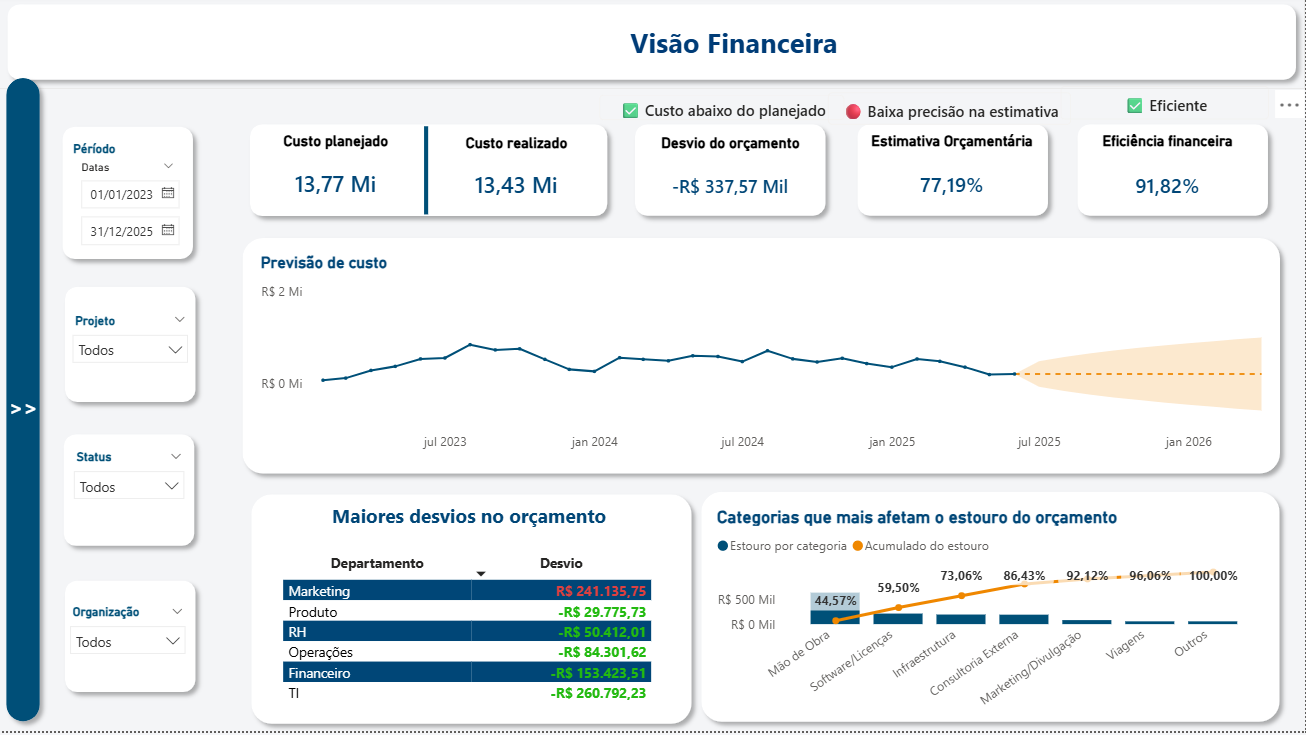

What the dashboard file says about the page in this screenshot:
{"tool":"powerbi","page":{"name":"Financeiro","canvas":[1280,720],"ordinal":1},"visuals":[{"type":"shape","box":[1.5,0,1278.5,91.9],"z":0,"group":"g13"},{"type":"shape","box":[0,72.5,50.9,647.5],"z":0,"group":"g15"},{"type":"shape","box":[237.9,117.8,367.5,107.8],"z":0,"group":"g17"},{"type":"group","id":"g1","title":"Grupo 5","box":[615.4,118,204.3,107.5],"z":0,"group":"g8"},{"type":"shape","box":[615.4,118,204.3,107.5],"z":0,"group":"g1"},{"type":"shape","box":[833,118,204.3,107.5],"z":0,"group":"g5"},{"type":"group","id":"g2","title":"Grupo 5","box":[1047,118,204.3,107.5],"z":0,"group":"g10"},{"type":"shape","box":[1047,118,204.3,107.5],"z":0,"group":"g2"},{"type":"group","id":"g3","title":"Grupo 3","box":[54.5,120,149.1,571.4],"z":0},{"type":"shape","box":[54.5,120,145.6,147.4],"z":0,"group":"g6"},{"type":"shape","box":[231.6,229.2,1033,248.4],"z":0,"group":"g11"},{"type":"shape","box":[57.5,276.6,145.6,130.7],"z":0,"group":"g7"},{"type":"group","id":"g4","title":"Grupo 7","box":[56,421.2,145.6,127.2],"z":0,"group":"g3"},{"type":"shape","box":[56,421.2,145.6,127.2],"z":0,"group":"g4"},{"type":"shape","box":[680,477.5,583.7,243.1],"z":0,"group":"g12"},{"type":"shape","box":[240,478.8,448.8,242.5],"z":0,"group":"g14"},{"type":"shape","box":[57.5,564.2,145.6,127.2],"z":0,"group":"g9"},{"type":"textbox","box":[588.6,23.6,265.7,47.2],"z":1000,"group":"g13"},{"type":"cardVisual","fields":{"Data":["Medidas.Aviso_CPI"]},"box":[1023,72.4,239,67.5],"z":1000,"group":"g10"},{"type":"cardVisual","fields":{"Data":["Medidas.Aviso_Desvio_Orcamento"]},"box":[572,81.3,274,59.7],"z":1000,"group":"g8"},{"type":"group","id":"g5","title":"Grupo 5","box":[833,118,204.3,107.5],"z":1000},{"type":"group","id":"g6","title":"Grupo 9","box":[54.5,120,146.1,149.1],"z":1000,"group":"g3"},{"type":"cardVisual","title":"Eficiência financeira","fields":{"Data":["Medidas.% CPI_Financeiro"]},"box":[1061,134.9,167.5,83.2],"z":1000,"group":"g2"},{"type":"cardVisual","title":"Estimativa Orçamentária","fields":{"Data":["Medidas.% Acerto_Custo"]},"box":[840.5,135.7,188.3,81.8],"z":1000,"group":"g5"},{"type":"cardVisual","title":"Desvio do orçamento","fields":{"Data":["Medidas.Desvio_Orcamento_RS"]},"box":[628.7,136,178,82.6],"z":1000,"group":"g1"},{"type":"cardVisual","title":"Custo realizado","fields":{"Data":["Sum(fato_financeiro_mensal.custo_realizado_rs)"]},"box":[421.2,136.3,172.7,79.2],"z":1000,"group":"g17"},{"type":"slicer","title":"Péríodo","fields":{"Values":["dim_calendario.data"]},"box":[69.4,143.7,115.8,113.2],"z":1000,"group":"g6"},{"type":"lineChart","title":"Previsão de custo","fields":{"Y":["Sum(fato_financeiro_mensal.custo_realizado_rs)"],"Category":["dim_calendario.data"]},"box":[253.8,253.1,1012.2,201.5],"z":1000,"group":"g11"},{"type":"slicer","fields":{"Values":["dim_projeto.nome_projeto"]},"box":[63.4,307.7,133.3,77.2],"z":1000,"group":"g7"},{"type":"actionButton","title":">>>","box":[0,379.8,51.6,46.7],"z":1000,"group":"g15"},{"type":"slicer","fields":{"Values":["dim_projeto.status"]},"box":[64.2,440.9,128.3,83.3],"z":1000,"group":"g4"},{"type":"lineStackedColumnComboChart","title":"Categorias que mais afetam o estouro do orçamento","fields":{"Category":["fato_financeiro_mensal.categoria_custo"],"Y2":["Medidas.%_Acumulado_Pareto"],"Y":["Medidas.Total_Estouro_Categoria_Prt"]},"box":[700.1,500.3,544.9,213.5],"z":1000,"group":"g12"},{"type":"pivotTable","fields":{"Rows":["dim_projeto.nome_projeto","dim_projeto.departamento"],"Values":["Medidas.Desvio_Orcamento_RS"]},"box":[275.1,538.9,372.7,161],"z":1000,"group":"g14"},{"type":"slicer","fields":{"Values":["dim_projeto.departamento","dim_gerente.nome_gerente"]},"box":[61.6,592.1,133.3,75],"z":1000,"group":"g9"},{"type":"cardVisual","fields":{"Data":["Medidas.Aviso_Taxa_Acerto_Custo"]},"box":[796,77.9,272.7,66.2],"z":2000},{"type":"shape","box":[346.5,128.8,145,86.2],"z":2000,"group":"g17"},{"type":"group","id":"g7","title":"Grupo 8","box":[57.5,276.6,146.1,129.5],"z":2000,"group":"g3"},{"type":"group","id":"g8","title":"Grupo 6","box":[572,81.3,274,144.2],"z":3000},{"type":"cardVisual","title":"Custo planejado","fields":{"Data":["Sum(fato_financeiro_mensal.custo_planejado_rs)"]},"box":[241.5,135,178.8,81.2],"z":3000,"group":"g17"},{"type":"group","id":"g9","title":"Grupo 7","box":[57.5,564.2,145.6,127.2],"z":3000,"group":"g3"},{"type":"group","id":"g10","title":"Grupo 10","box":[1023,72.4,239,153.1],"z":4000},{"type":"group","id":"g11","title":"Grupo 3","box":[231.6,229.2,1034.4,248.4],"z":5000},{"type":"group","id":"g12","title":"Grupo 11","box":[680,477.5,583.8,242.5],"z":6000},{"type":"group","id":"g13","title":"Grupo 12","box":[1.5,0,1278.5,91.9],"z":7000},{"type":"group","id":"g14","title":"Grupo 4","box":[240,478.8,448.8,242.5],"z":7000,"group":"g16"},{"type":"textbox","box":[307.5,491,310,35],"z":7500,"group":"g16"},{"type":"group","id":"g15","title":"Grupo 2","box":[0,72.5,51.6,647.3],"z":8000},{"type":"group","id":"g16","title":"Grupo 13","box":[240,478.8,448.8,242.5],"z":10000},{"type":"group","id":"g17","title":"Grupo 5","box":[237.9,117.8,367.5,107.8],"z":11000}]}

Visuals, with their boxes in screenshot pixels (x1, y1, x2, y2), scaled from the page's 1280x720 canvas onto the 1306x735 screenshot:
shape: pyautogui.locateOnScreen(2, 0, 1305, 94)
shape: pyautogui.locateOnScreen(0, 74, 52, 734)
shape: pyautogui.locateOnScreen(243, 120, 618, 230)
"Grupo 5" group: pyautogui.locateOnScreen(628, 120, 836, 230)
shape: pyautogui.locateOnScreen(628, 120, 836, 230)
shape: pyautogui.locateOnScreen(850, 120, 1058, 230)
"Grupo 5" group: pyautogui.locateOnScreen(1068, 120, 1277, 230)
shape: pyautogui.locateOnScreen(1068, 120, 1277, 230)
"Grupo 3" group: pyautogui.locateOnScreen(56, 122, 208, 706)
shape: pyautogui.locateOnScreen(56, 122, 204, 273)
shape: pyautogui.locateOnScreen(236, 234, 1290, 488)
shape: pyautogui.locateOnScreen(59, 282, 207, 416)
"Grupo 7" group: pyautogui.locateOnScreen(57, 430, 206, 560)
shape: pyautogui.locateOnScreen(57, 430, 206, 560)
shape: pyautogui.locateOnScreen(694, 487, 1289, 734)
shape: pyautogui.locateOnScreen(245, 489, 703, 734)
shape: pyautogui.locateOnScreen(59, 576, 207, 706)
textbox: pyautogui.locateOnScreen(601, 24, 872, 72)
cardVisual - Medidas.Aviso_CPI: pyautogui.locateOnScreen(1044, 74, 1288, 143)
cardVisual - Medidas.Aviso_Desvio_Orcamento: pyautogui.locateOnScreen(584, 83, 863, 144)
"Grupo 5" group: pyautogui.locateOnScreen(850, 120, 1058, 230)
"Grupo 9" group: pyautogui.locateOnScreen(56, 122, 205, 275)
"Eficiência financeira" cardVisual: pyautogui.locateOnScreen(1083, 138, 1253, 223)
"Estimativa Orçamentária" cardVisual: pyautogui.locateOnScreen(858, 139, 1050, 222)
"Desvio do orçamento" cardVisual: pyautogui.locateOnScreen(641, 139, 823, 223)
"Custo realizado" cardVisual: pyautogui.locateOnScreen(430, 139, 606, 220)
"Péríodo" slicer: pyautogui.locateOnScreen(71, 147, 189, 262)
"Previsão de custo" lineChart: pyautogui.locateOnScreen(259, 258, 1292, 464)
slicer - dim_projeto.nome_projeto: pyautogui.locateOnScreen(65, 314, 201, 393)
">>>" actionButton: pyautogui.locateOnScreen(0, 388, 53, 435)
slicer - dim_projeto.status: pyautogui.locateOnScreen(66, 450, 196, 535)
"Categorias que mais afetam o estouro do orçamento" lineStackedColumnComboChart: pyautogui.locateOnScreen(714, 511, 1270, 729)
pivotTable - dim_projeto.nome_projeto x dim_projeto.departamento: pyautogui.locateOnScreen(281, 550, 661, 714)
slicer - dim_projeto.departamento x dim_gerente.nome_gerente: pyautogui.locateOnScreen(63, 604, 199, 681)
cardVisual - Medidas.Aviso_Taxa_Acerto_Custo: pyautogui.locateOnScreen(812, 80, 1090, 147)
shape: pyautogui.locateOnScreen(354, 131, 501, 219)
"Grupo 8" group: pyautogui.locateOnScreen(59, 282, 208, 415)
"Grupo 6" group: pyautogui.locateOnScreen(584, 83, 863, 230)
"Custo planejado" cardVisual: pyautogui.locateOnScreen(246, 138, 429, 221)
"Grupo 7" group: pyautogui.locateOnScreen(59, 576, 207, 706)
"Grupo 10" group: pyautogui.locateOnScreen(1044, 74, 1288, 230)
"Grupo 3" group: pyautogui.locateOnScreen(236, 234, 1292, 488)
"Grupo 11" group: pyautogui.locateOnScreen(694, 487, 1289, 734)
"Grupo 12" group: pyautogui.locateOnScreen(2, 0, 1305, 94)
"Grupo 4" group: pyautogui.locateOnScreen(245, 489, 703, 734)
textbox: pyautogui.locateOnScreen(314, 501, 630, 537)
"Grupo 2" group: pyautogui.locateOnScreen(0, 74, 53, 734)
"Grupo 13" group: pyautogui.locateOnScreen(245, 489, 703, 734)
"Grupo 5" group: pyautogui.locateOnScreen(243, 120, 618, 230)
